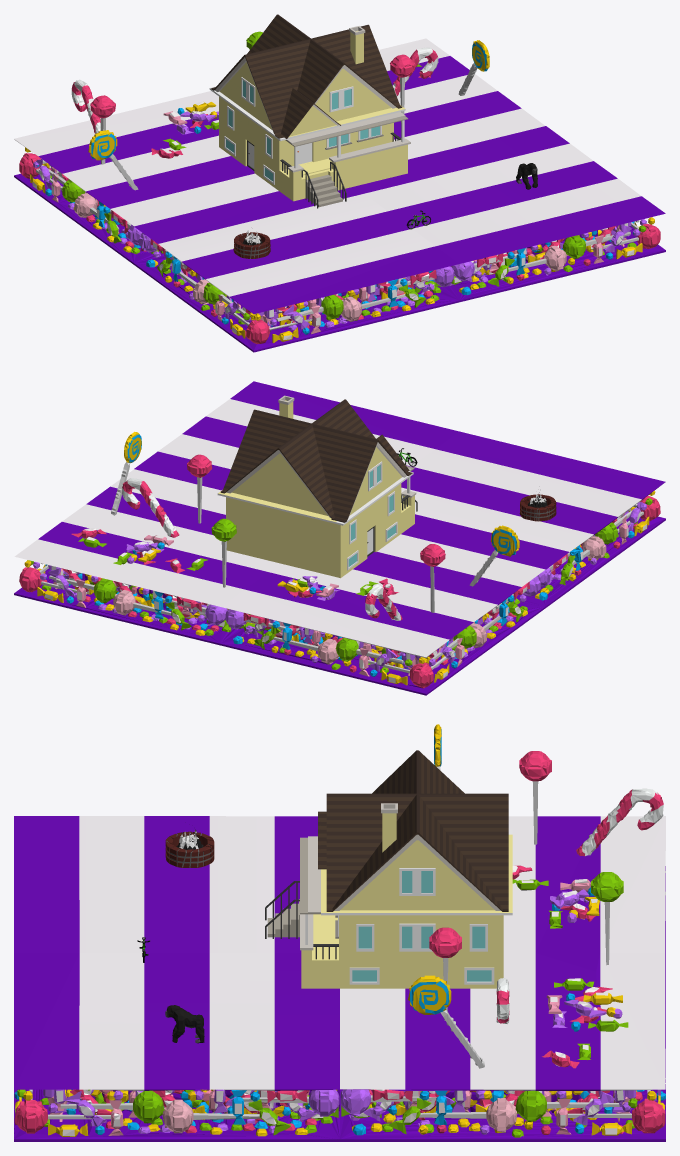
3 renders of one model, top to bottom at view 1: azimuth 30°, elevation 25°; view 2: azimuth 150°, elevation 25°; view 3: azimuth 270°, elevation 25°, orthographic. The views are drawn at different scales.
Parts seen in each view (by area): view 1: TERRAIN_CANDY, Cube.1555, OBJRANDOM_CAMPFIRE; view 2: TERRAIN_CANDY, Cube.1555, OBJRANDOM_CAMPFIRE; view 3: TERRAIN_CANDY, Cube.1555, OBJRANDOM_CAMPFIRE, ANIMAL_GORILA.
Boxes of the visible parts, x1=… form: TERRAIN_CANDY: x1=14, y1=31, x2=665, y2=352; Cube.1555: x1=209, y1=14, x2=410, y2=208; OBJRANDOM_CAMPFIRE: x1=233, y1=230, x2=270, y2=258; TERRAIN_CANDY: x1=14, y1=381, x2=665, y2=695; Cube.1555: x1=217, y1=395, x2=417, y2=578; OBJRANDOM_CAMPFIRE: x1=519, y1=492, x2=556, y2=521; TERRAIN_CANDY: x1=14, y1=724, x2=665, y2=1141; Cube.1555: x1=265, y1=750, x2=512, y2=988; OBJRANDOM_CAMPFIRE: x1=165, y1=829, x2=214, y2=867; ANIMAL_GORILA: x1=165, y1=1005, x2=204, y2=1043.
Bounding box in the file's own units: 4059 × 1735 × 4000.
28 materials, 2 textured.
